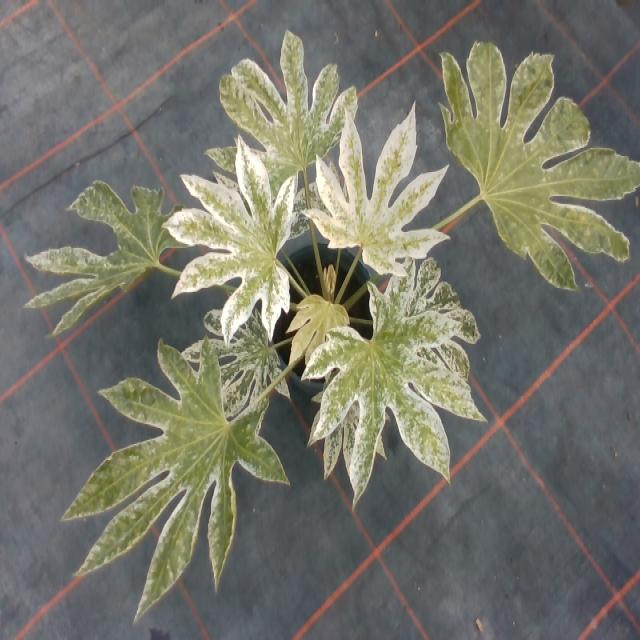Fatsia-japonica: (63, 335, 276, 621), (428, 46, 623, 303), (293, 274, 468, 473), (37, 171, 184, 342), (311, 104, 441, 288), (222, 49, 370, 195), (178, 173, 303, 337), (177, 292, 292, 436), (382, 256, 487, 370), (287, 299, 356, 371)
